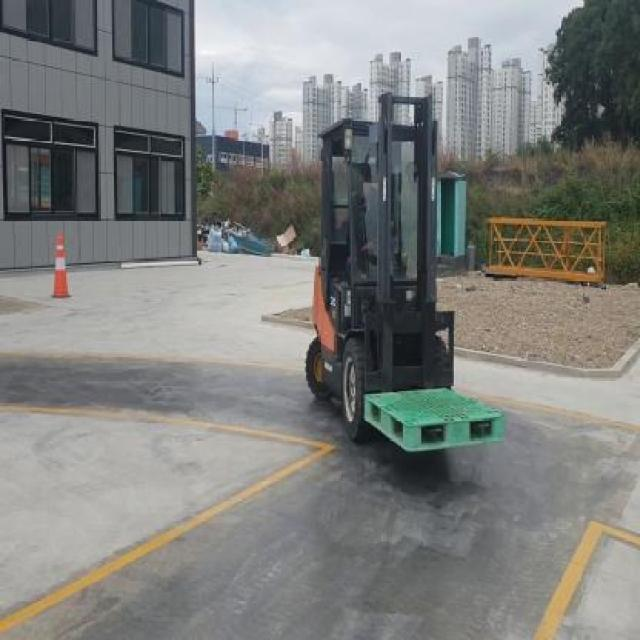forklift: (306, 117, 460, 406)
